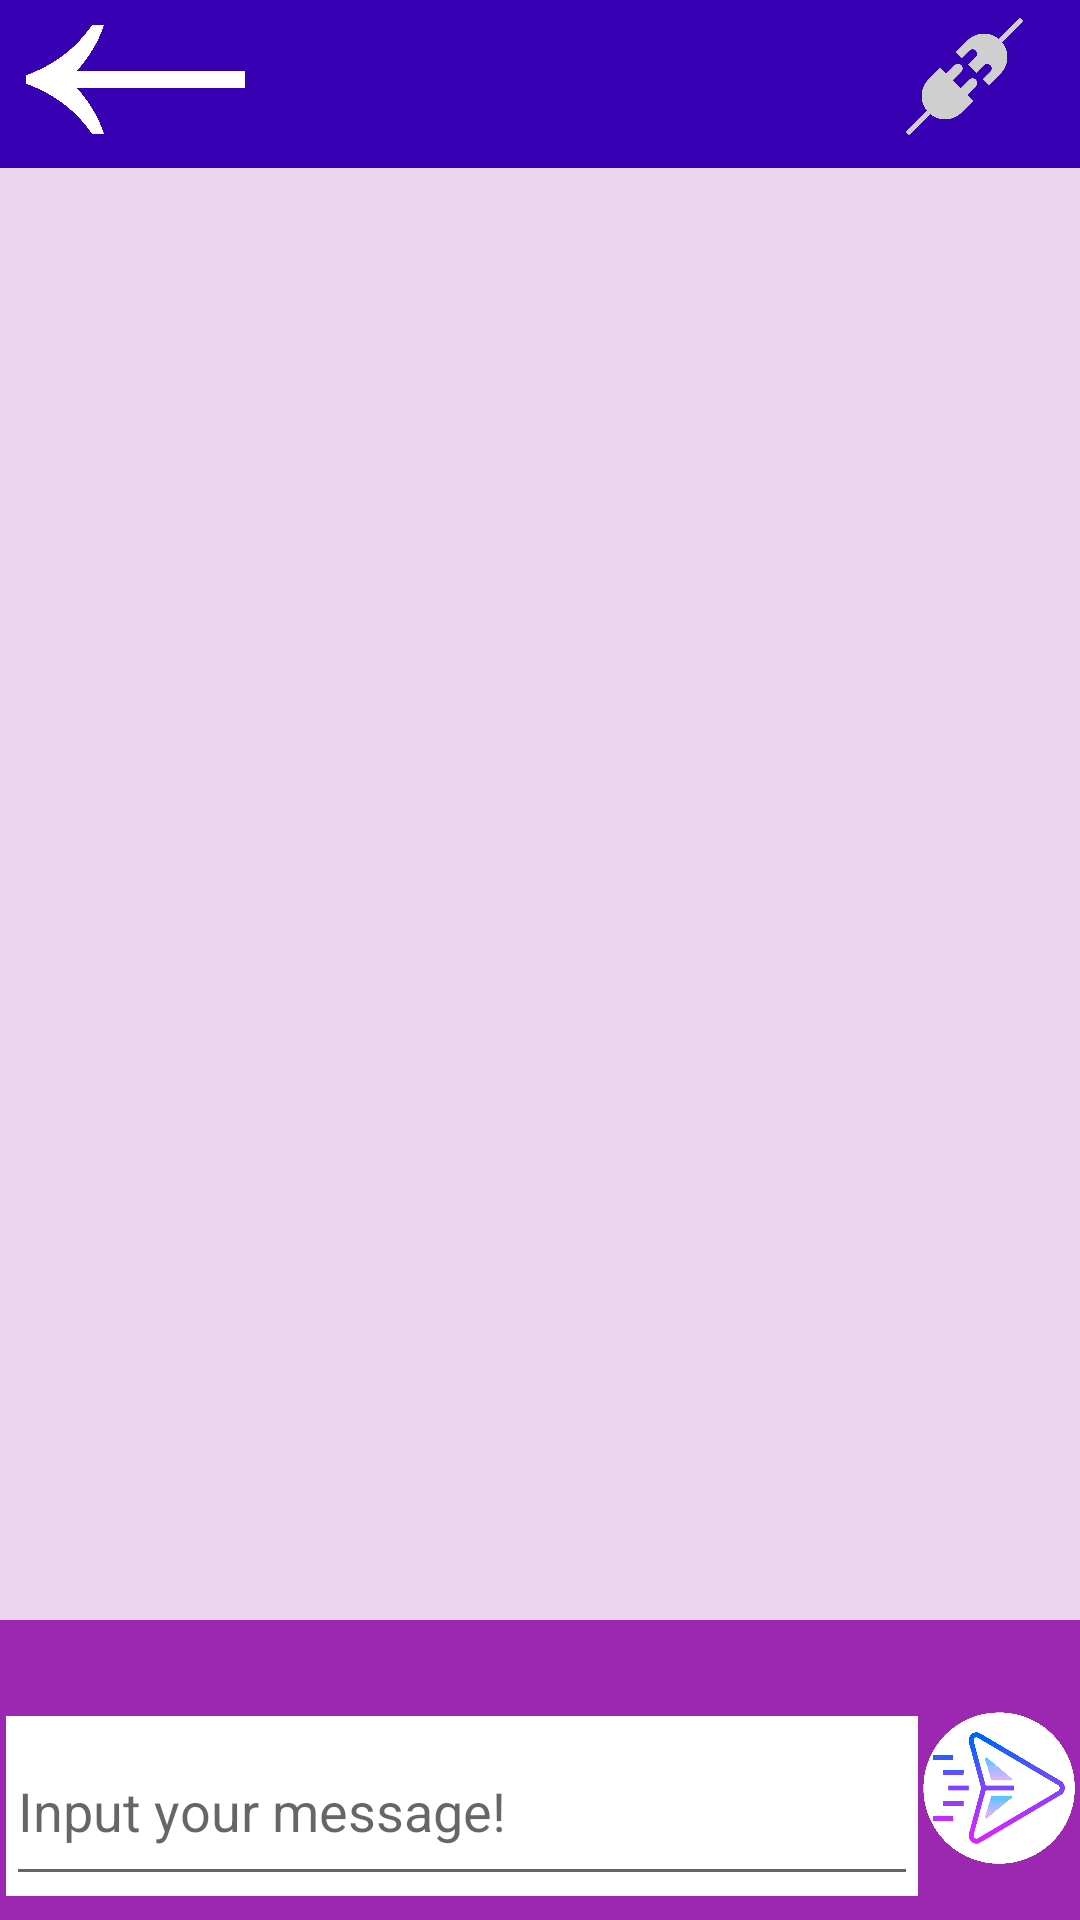

Locate icon controls on the screen. Image size 1080px x 1920px, boxes as (x1, y1, x2, y2).
arrow: (26, 25, 245, 134)
connect: (906, 18, 1023, 135)
send: (923, 1712, 1075, 1864)
